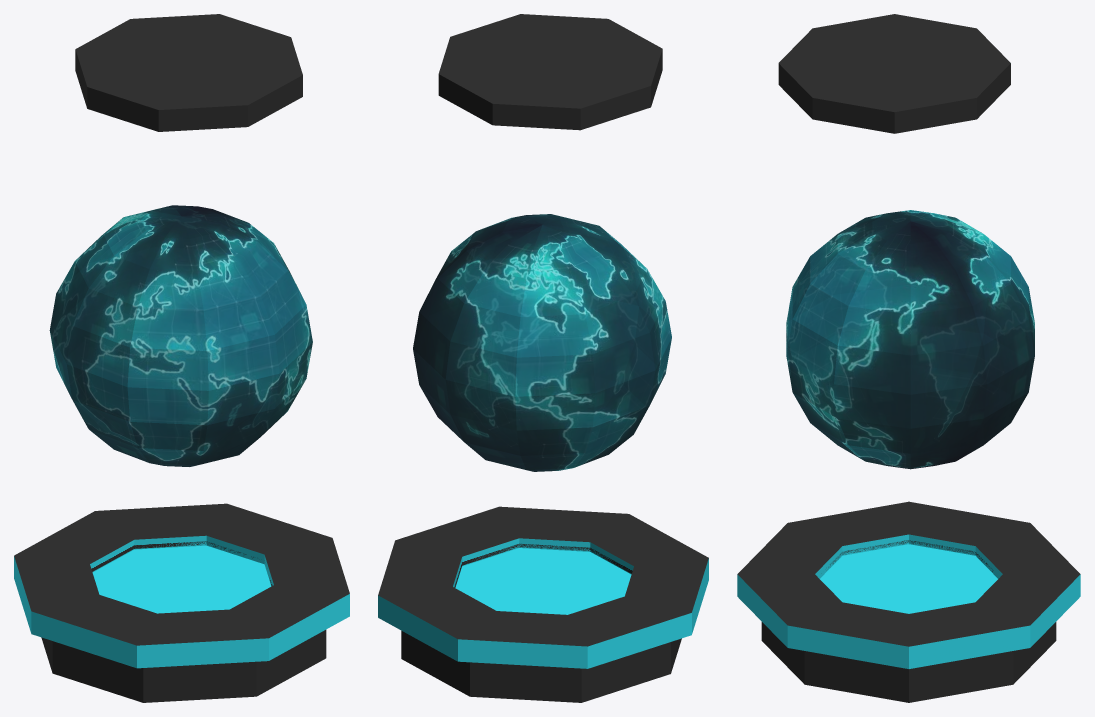
File: hologram.fbx
The picture shows the model from 3 angles, left to right: view 1: azimuth 30°, elevation 25°; view 2: azimuth 150°, elevation 25°; view 3: azimuth 270°, elevation 25°; orthographic projection.
Visible parts, largest first — view 1: pCylinder1, pSphere1, pCylinder2; view 2: pCylinder1, pSphere1, pCylinder2; view 3: pCylinder1, pSphere1, pCylinder2.
Part boxes in pixels (left/top/right/bottom): pCylinder1: left=14, top=503, right=349, bottom=702; pSphere1: left=49, top=205, right=312, bottom=466; pCylinder2: left=75, top=14, right=302, bottom=131; pCylinder1: left=378, top=506, right=708, bottom=702; pSphere1: left=413, top=214, right=671, bottom=471; pCylinder2: left=438, top=14, right=662, bottom=130; pCylinder1: left=737, top=501, right=1080, bottom=702; pSphere1: left=786, top=210, right=1034, bottom=469; pCylinder2: left=778, top=14, right=1010, bottom=133.
Size of the model in its own units: 6.06 by 11.24 by 6.06.
